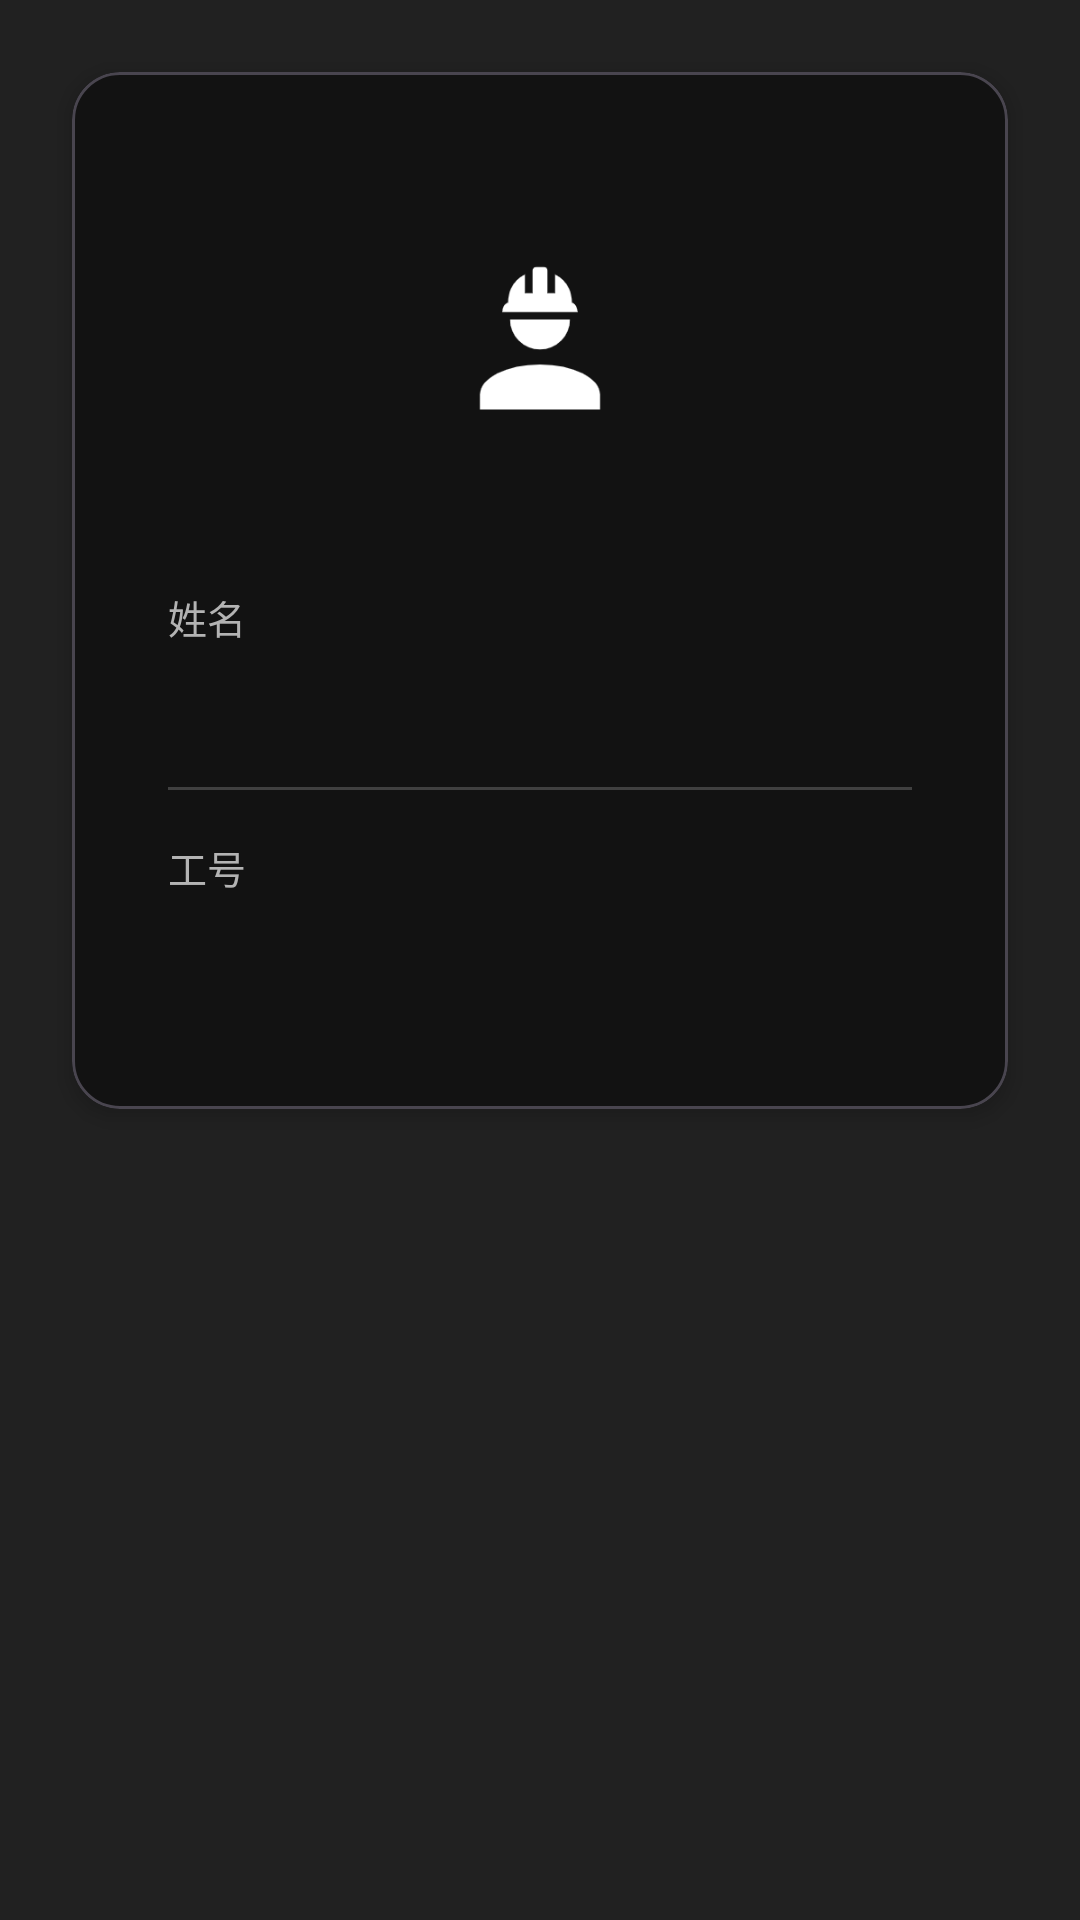

Named icons in this screenshot (1080 × 1920) and their centers, point (x, y):
worker: point (540, 338)
